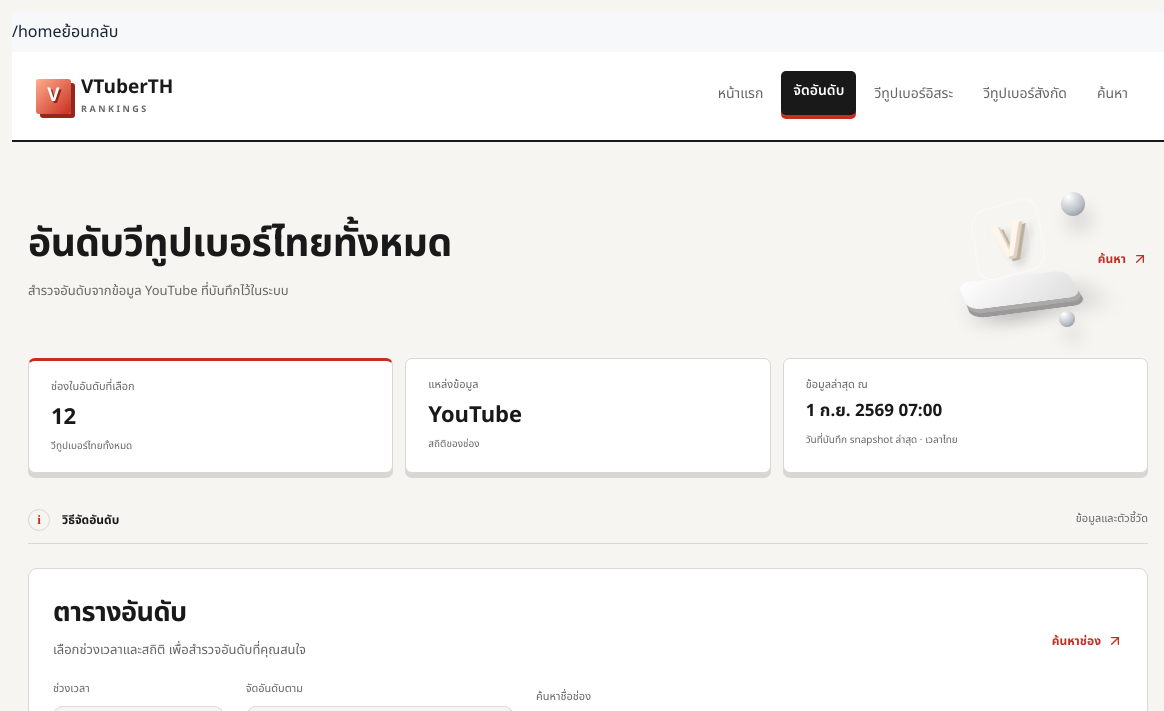
Test: Stats page › clears the previous group count when a new group fails to load
Check: the text "12" is shown, box [51, 400, 76, 434]
Click the link "วีทูปเบอร์อิสระ" at {"x": 914, "y": 94}, box [874, 83, 953, 104]
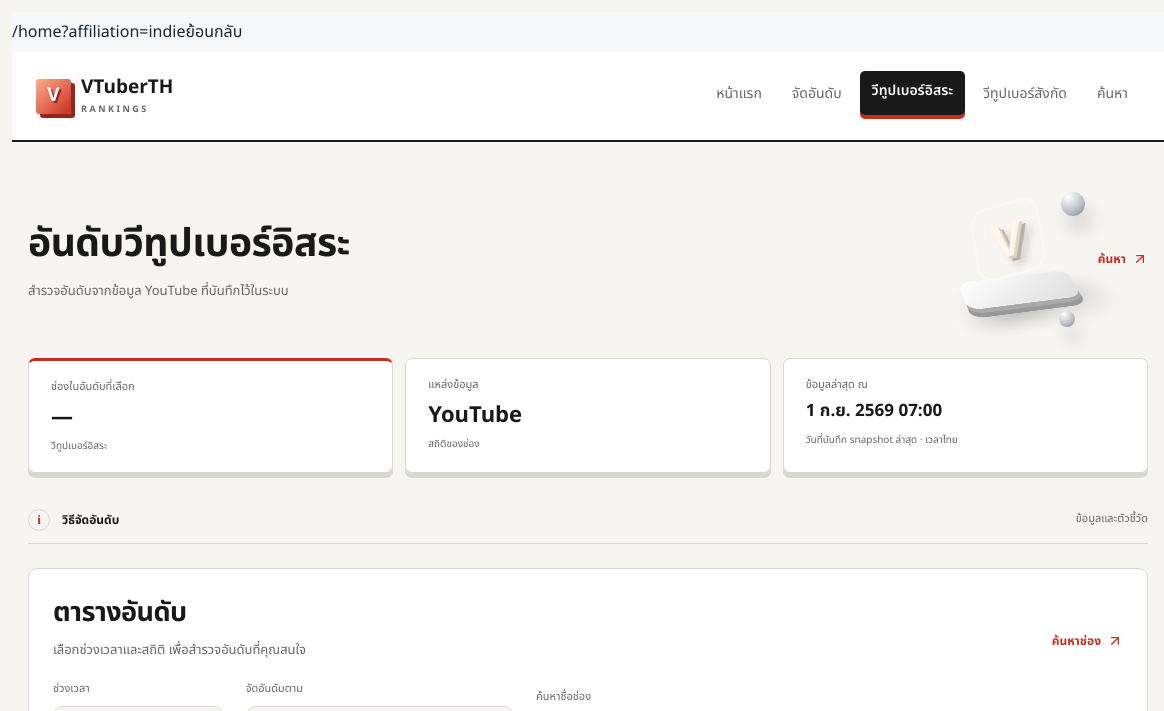
Check: the text "—" is shown, box [51, 400, 73, 434]
